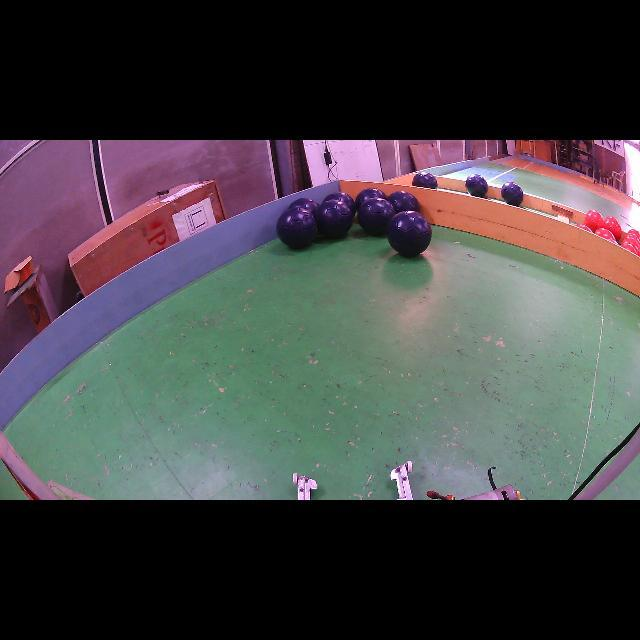B: (388, 210, 431, 256), (276, 206, 318, 249), (315, 200, 354, 238), (358, 198, 395, 236), (322, 191, 356, 216), (388, 191, 420, 213), (355, 188, 386, 210), (465, 174, 488, 198), (501, 182, 524, 206), (289, 198, 319, 214), (412, 171, 438, 189)
R: (601, 216, 622, 240), (584, 210, 604, 231), (595, 228, 618, 244), (622, 236, 640, 250), (620, 242, 638, 255), (628, 229, 640, 241), (578, 224, 592, 232)
